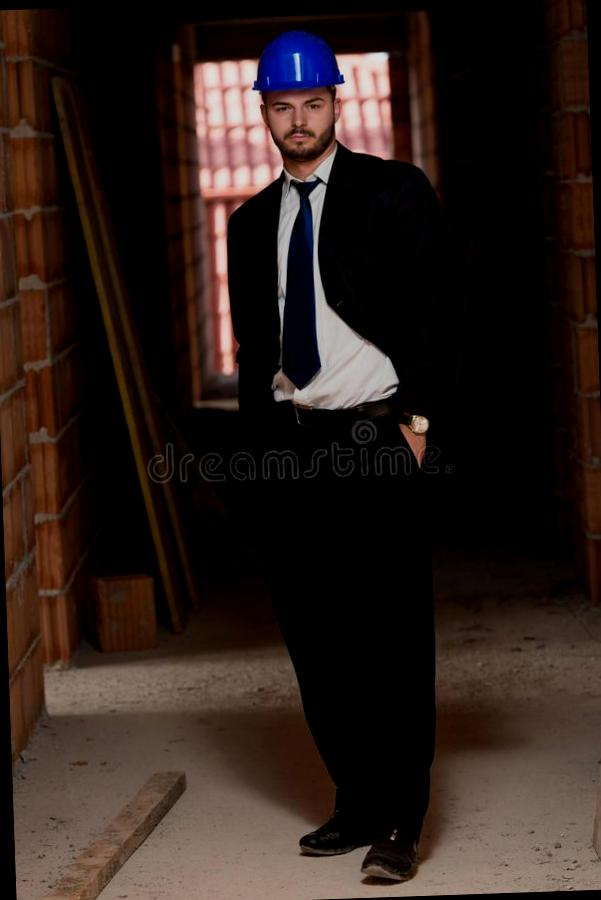helmet: (234, 21, 347, 107)
no_vest: (224, 154, 459, 445)
person: (201, 13, 484, 898)
